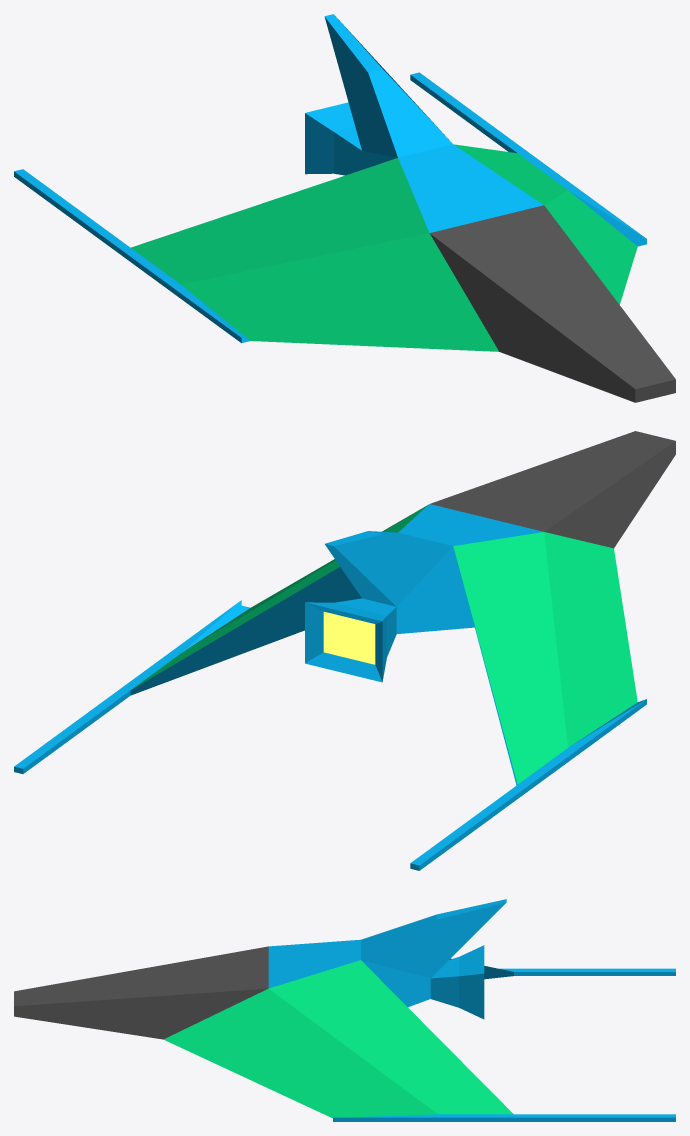
The model's file is SpaceShipSD.fbx.
3 renders of one model, top to bottom at view 1: azimuth 30°, elevation 25°; view 2: azimuth 150°, elevation 25°; view 3: azimuth 270°, elevation 25°, orthographic. The views are drawn at different scales.
Visible parts, largest first — view 1: Cube; view 2: Cube; view 3: Cube.
Part boxes in pixels (x1=…): Cube: x1=14, y1=14, x2=675, y2=402; Cube: x1=14, y1=431, x2=675, y2=870; Cube: x1=14, y1=899, x2=675, y2=1121.
Bounding box in the file's own units: 2206 × 1010 × 4136.
